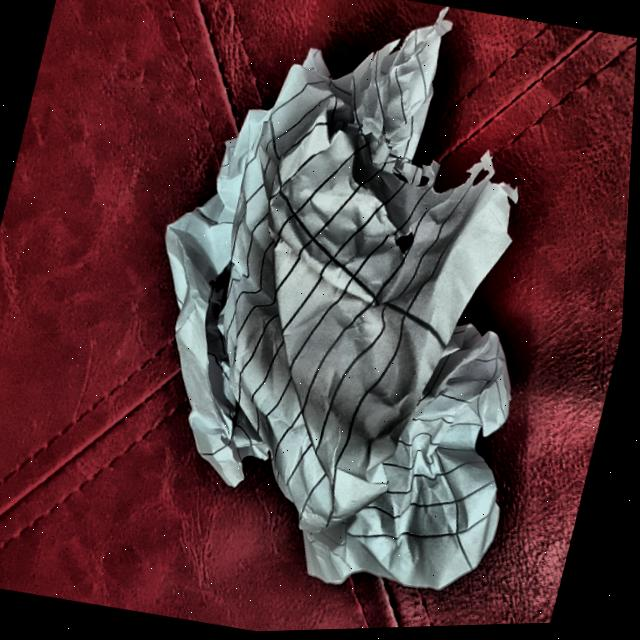paper: (75, 0, 623, 631)
